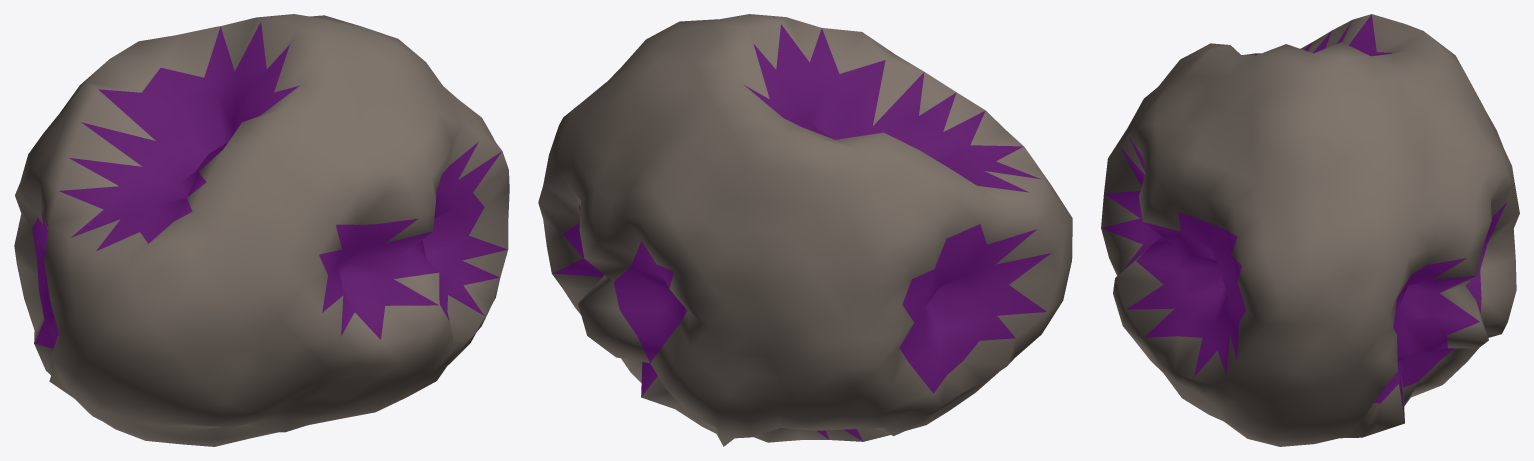
Rendered from asteroid_med_29.glb.
3 renders of one model, left to right at view 1: azimuth 30°, elevation 25°; view 2: azimuth 150°, elevation 25°; view 3: azimuth 270°, elevation 25°, orthographic. The views are drawn at different scales.
Parts seen in each view (by area): view 1: asteroid_med_29; view 2: asteroid_med_29; view 3: asteroid_med_29.
Part boxes in pixels (x1,y1,x2,y2): asteroid_med_29: (14,14,509,446); asteroid_med_29: (538,14,1072,446); asteroid_med_29: (1101,14,1519,446).
Bounding box in the file's own units: 1.79 × 1.43 × 1.43.
